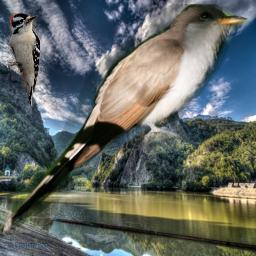Cuckoo: (1, 4, 250, 233)
Woodpecker: (7, 13, 40, 107)
